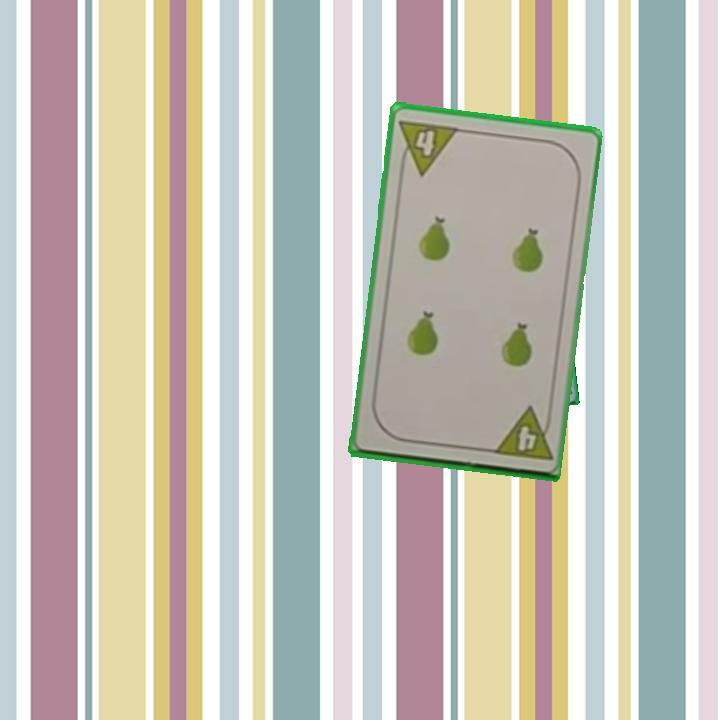4p: (395, 115, 461, 178), (488, 404, 555, 464)
